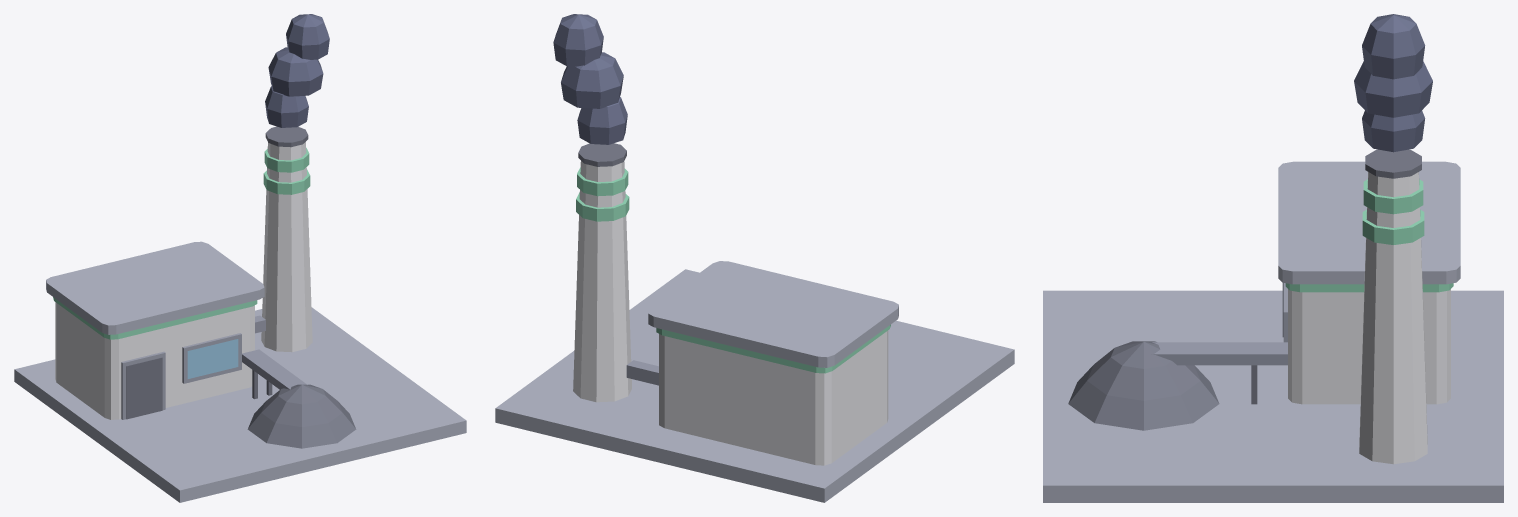
File: coal-1x1-t2-tone-a.glb
3 renders of one model, left to right at view 1: azimuth 30°, elevation 25°; view 2: azimuth 150°, elevation 25°; view 3: azimuth 270°, elevation 25°, orthographic. The views are drawn at different scales.
Visible parts, largest first — view 1: coal-1x1-t2-tone-a; view 2: coal-1x1-t2-tone-a; view 3: coal-1x1-t2-tone-a.
Boxes of the visible parts, x1,y1,x2,y2 form: coal-1x1-t2-tone-a: [14, 14, 466, 502]; coal-1x1-t2-tone-a: [495, 14, 1014, 502]; coal-1x1-t2-tone-a: [1043, 14, 1503, 502].
Bounding box in the file's own units: 0.96 × 1.07 × 0.96.
Materials: 1 (1 with a texture image).
